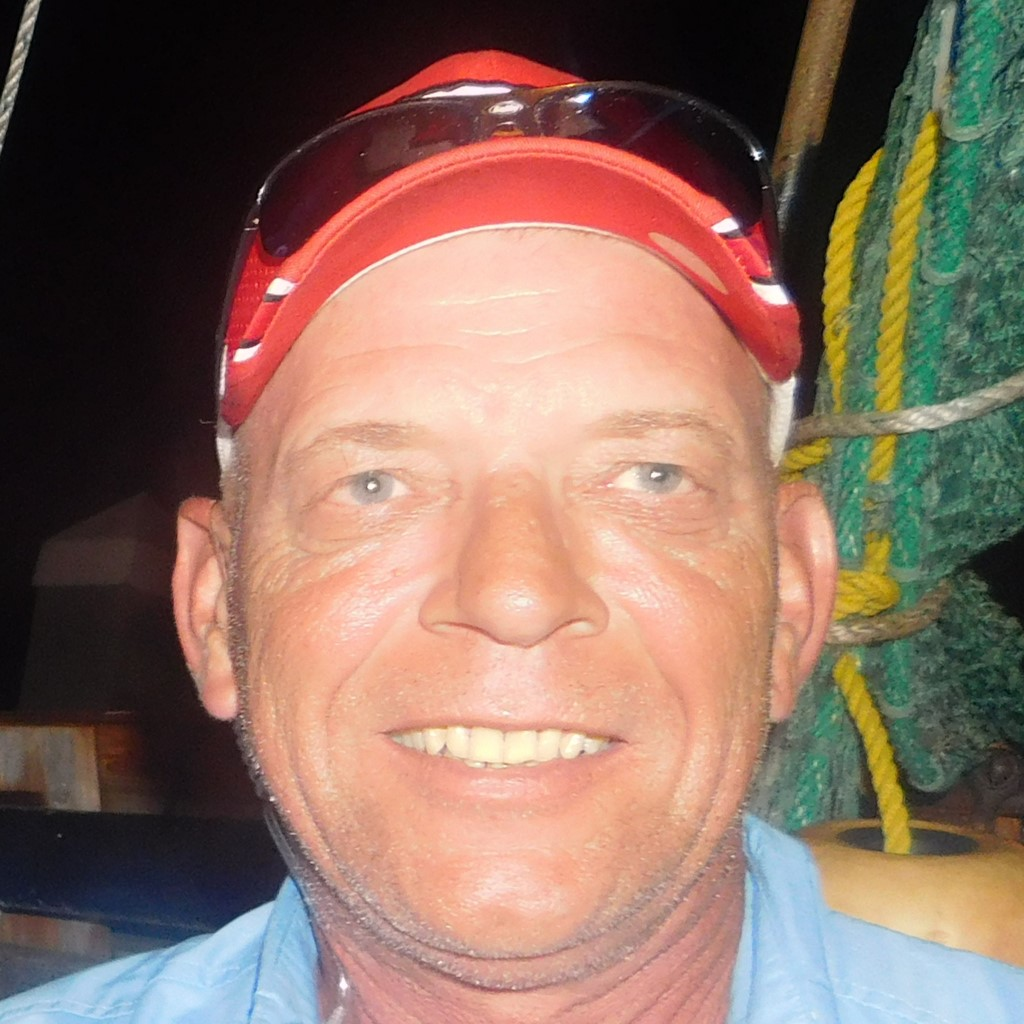sin_mascara: (202, 183, 799, 975)
